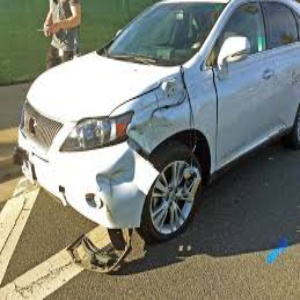bumper: (78, 146, 158, 232)
